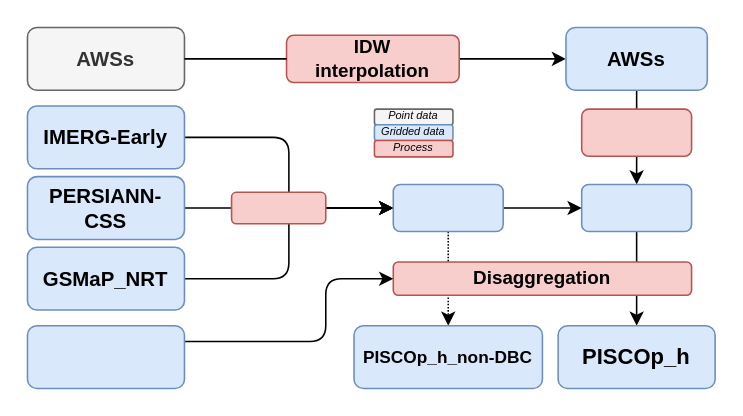
The diagram is 743 pixels wide and 416 high, and some of its shapes have lost their labels. The shapes that lost their labels are listed below. From the top down, each one's centre as x and y in pixels, then its label:
At (x=636, y=132): "Diurnal Bias Correction".
At (x=278, y=207): "Mean".
At (x=447, y=207): "SAT".
At (x=636, y=207): "SATc".
At (x=105, y=356): "PISCOp".
